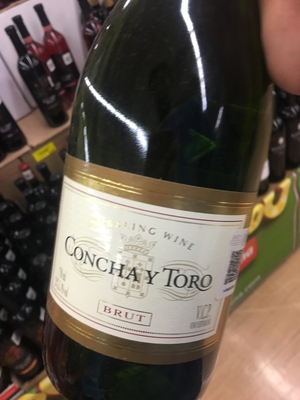brut: (44, 16, 269, 400)
